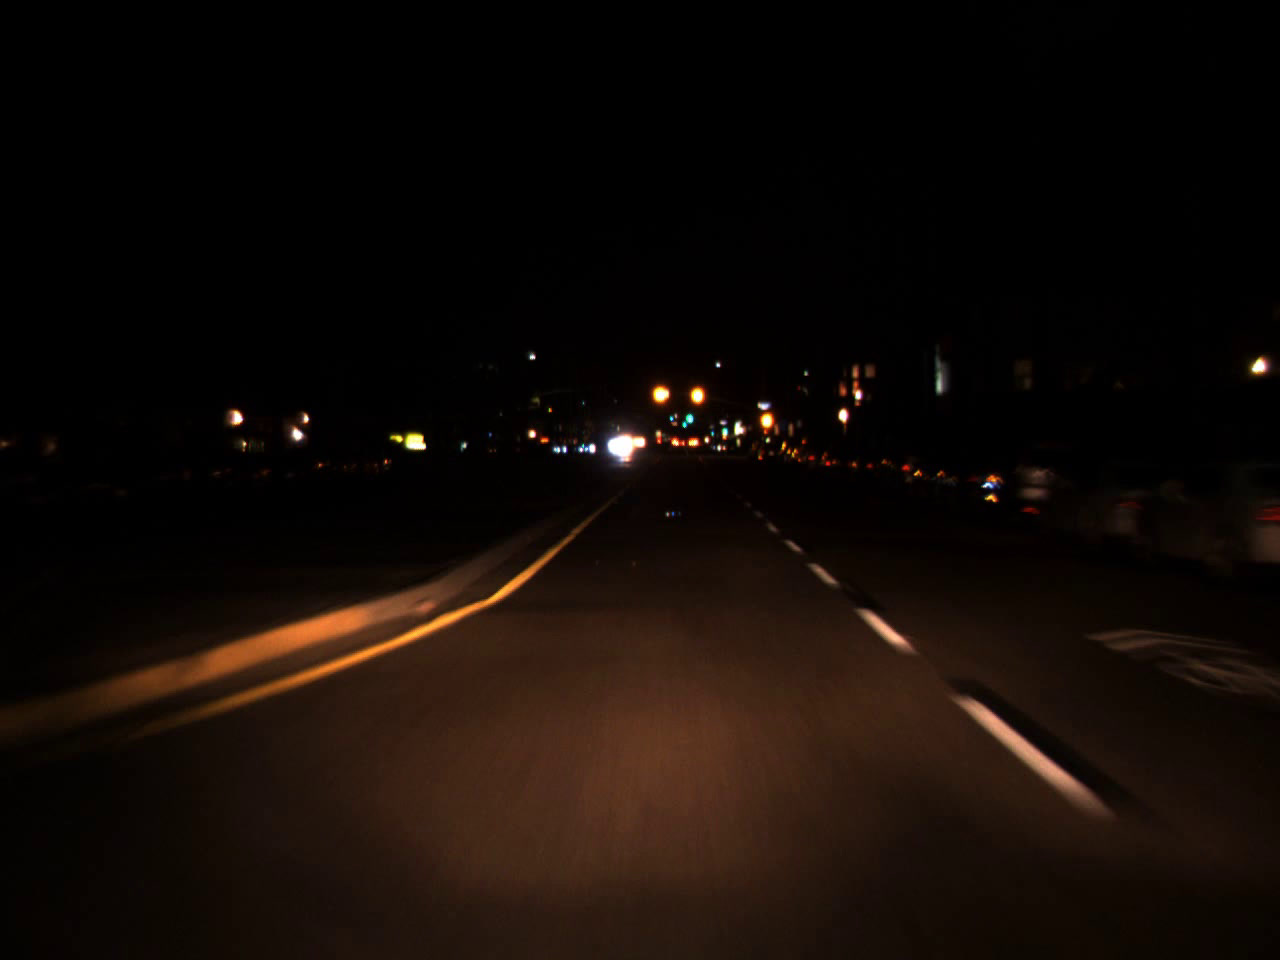go: (681, 401, 695, 425), (721, 422, 728, 437), (680, 415, 687, 430)
warning: (649, 374, 673, 414), (687, 375, 706, 415), (759, 402, 777, 439)
